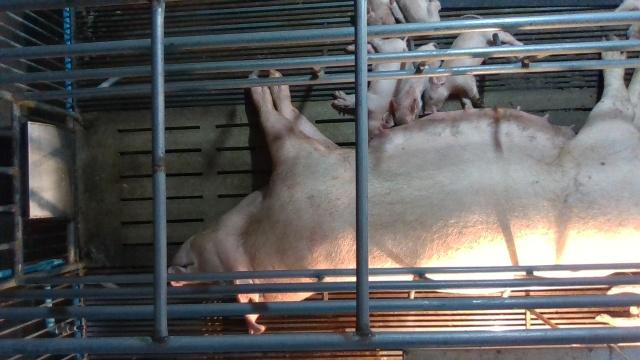piglet: (423, 28, 525, 117), (335, 37, 406, 140), (394, 42, 441, 126), (398, 0, 444, 22), (368, 0, 402, 26)
sow-sleep-lactate: (170, 35, 640, 335)
